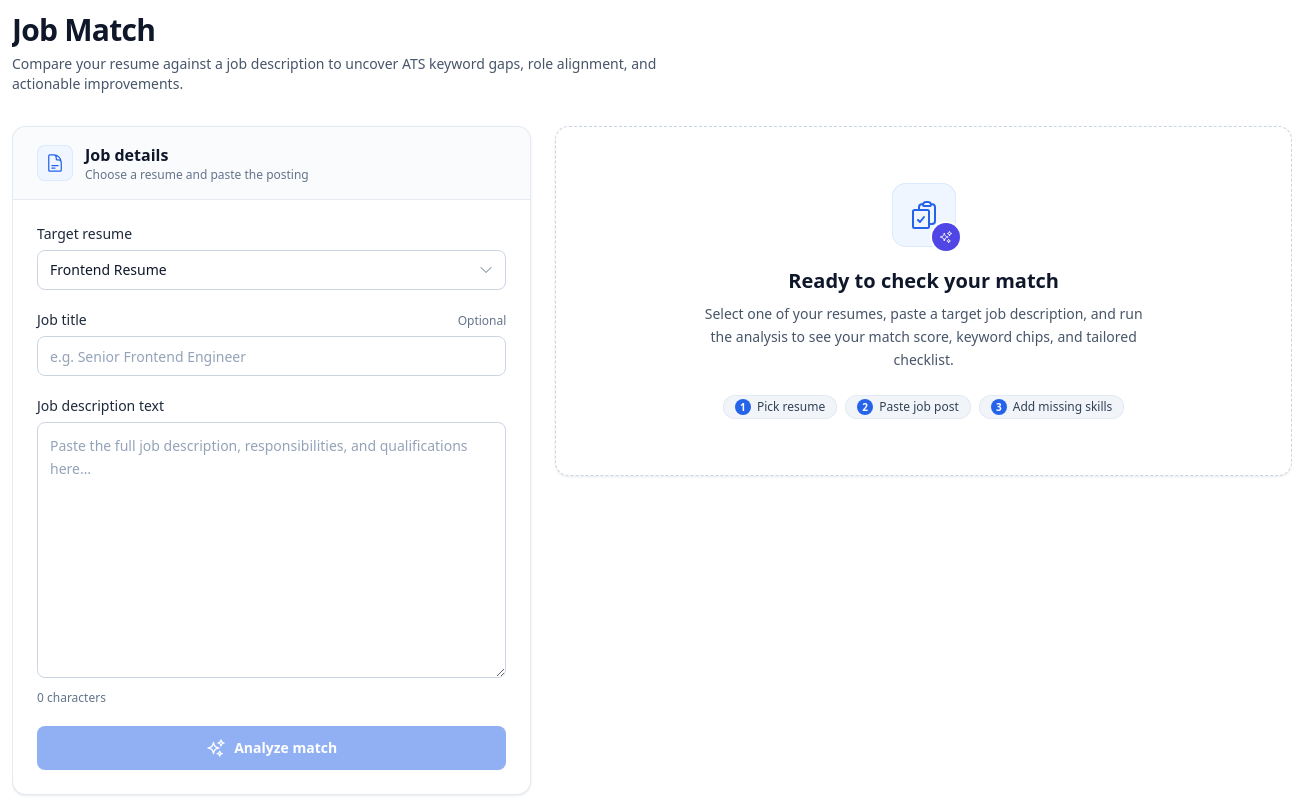
<JobMatch /> › validates minimum job description length and supports clearing the input
Replace the text in the text box labelled "Job description text" with "Too short JD" at (272, 550), box [37,422,506,678]
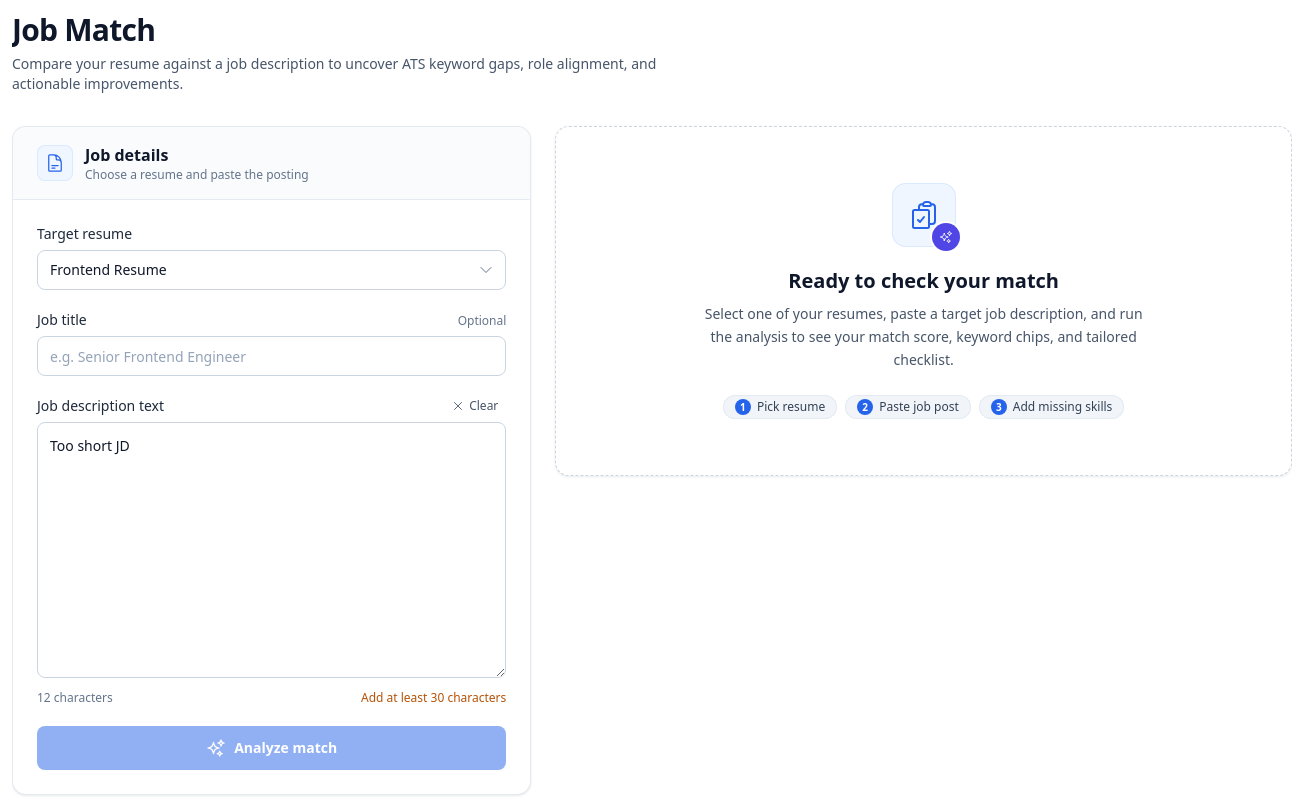
Expected: the button "Analyze match" is disabled, [37,726,506,770]
Now the text "Add at least 30 characters" is shown, box [361,690,506,706]
Click the button with aria-label "clear job description" at (475, 406), box [443,396,506,416]
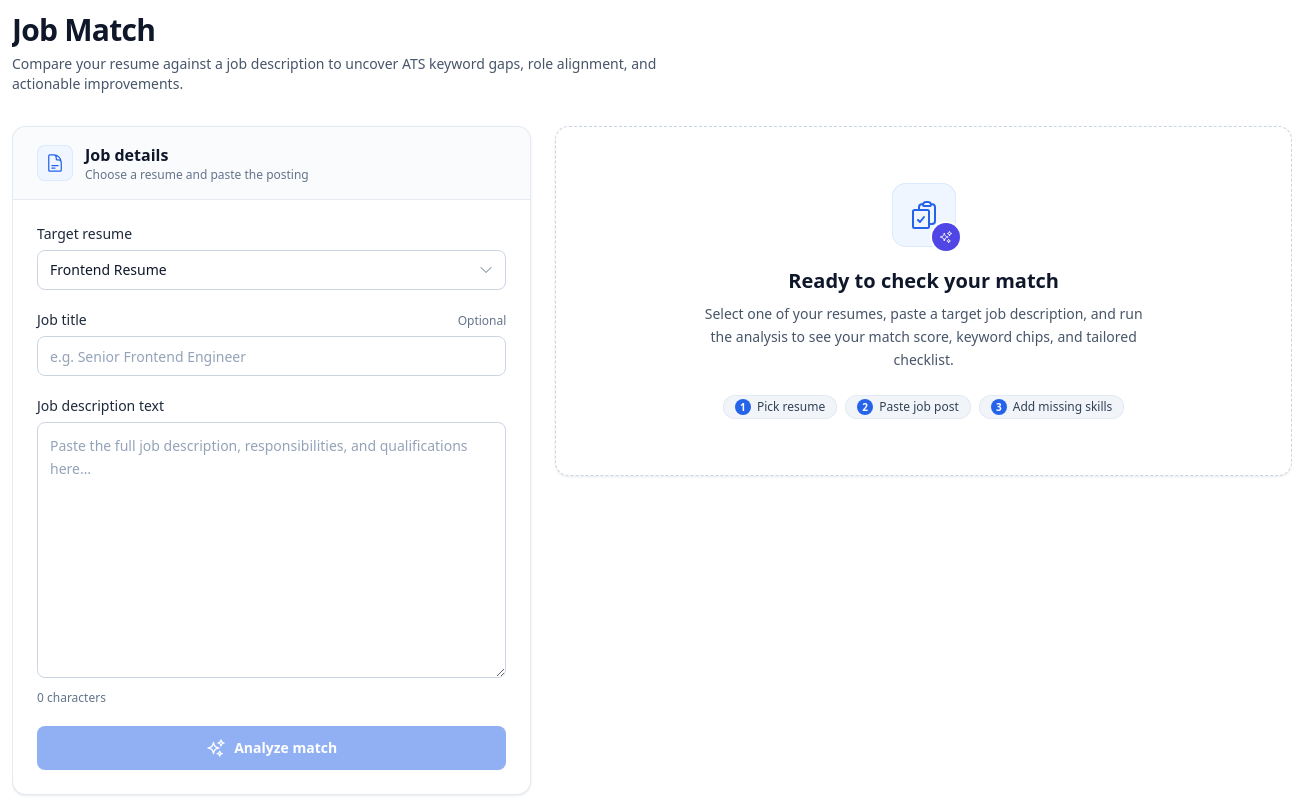
Now the text box labelled "Job description text" is empty, box [37,422,506,678]
